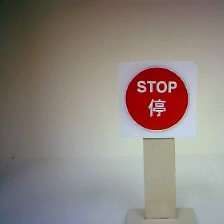stop: (118, 59, 194, 138)
